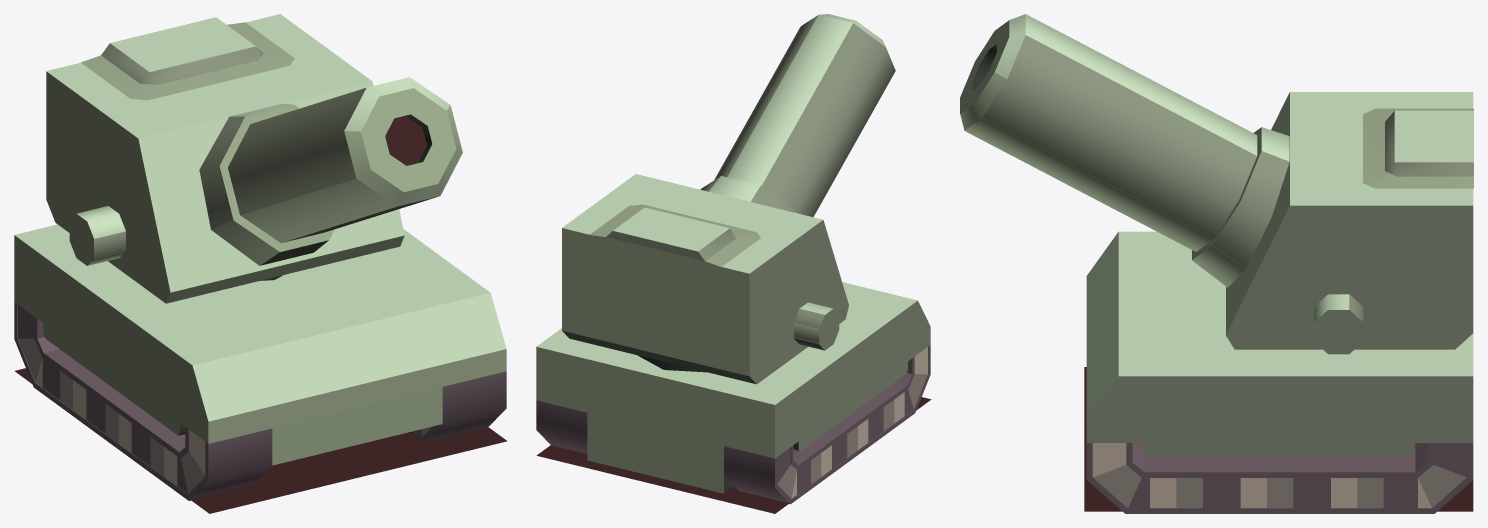
The model's file is ArtillertyMesh.JadeSun.glb.
3 renders of one model, left to right at view 1: azimuth 30°, elevation 25°; view 2: azimuth 150°, elevation 25°; view 3: azimuth 270°, elevation 25°, orthographic. The views are drawn at different scales.
Visible parts, largest first — view 1: ArtillertyMesh.JadeSun; view 2: ArtillertyMesh.JadeSun; view 3: ArtillertyMesh.JadeSun.
Boxes of the visible parts, x1,y1,x2,y2 form: ArtillertyMesh.JadeSun: (14,14,507,513); ArtillertyMesh.JadeSun: (536,14,931,513); ArtillertyMesh.JadeSun: (960,14,1473,513).
Bounding box in the file's own units: 1.4 × 1.88 × 2.1.
1 material, 1 textured.
